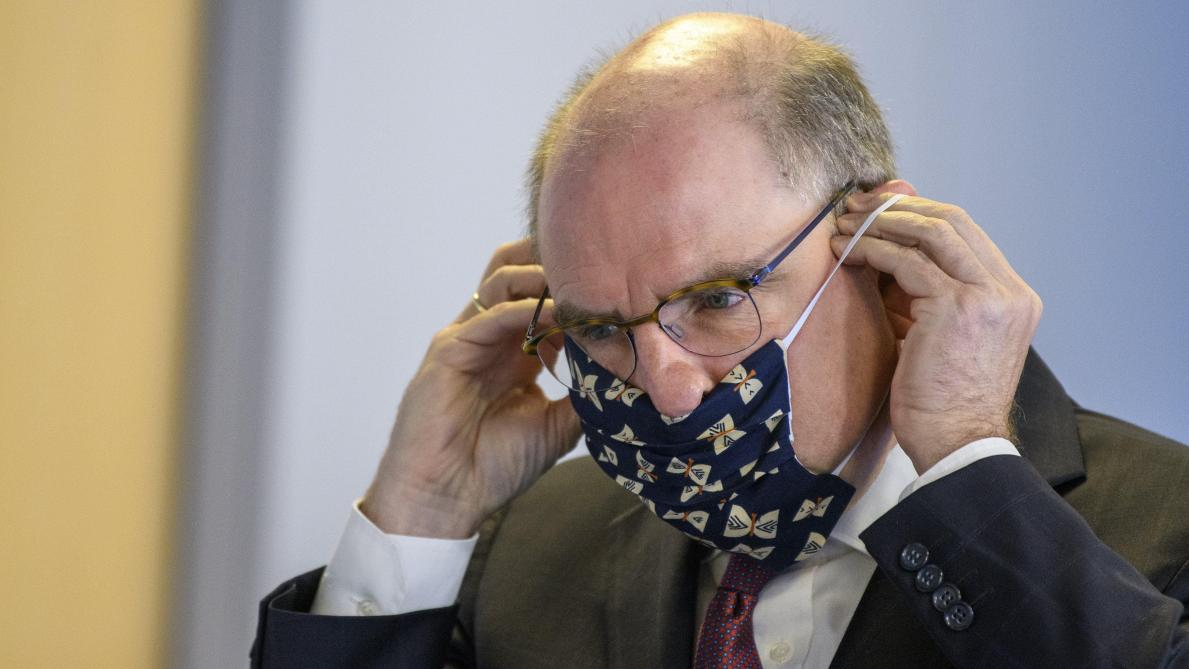with_incorrect_mask: (541, 264, 876, 562)
